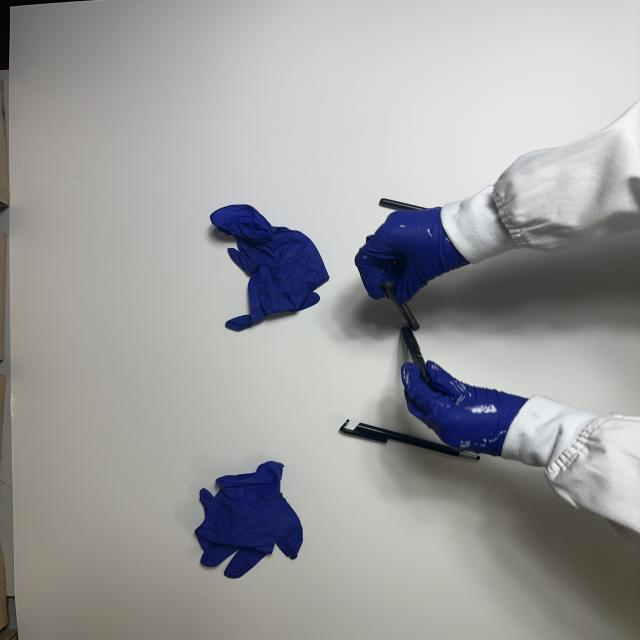gloves_contaminated: (402, 361, 526, 456), (355, 208, 469, 303)
